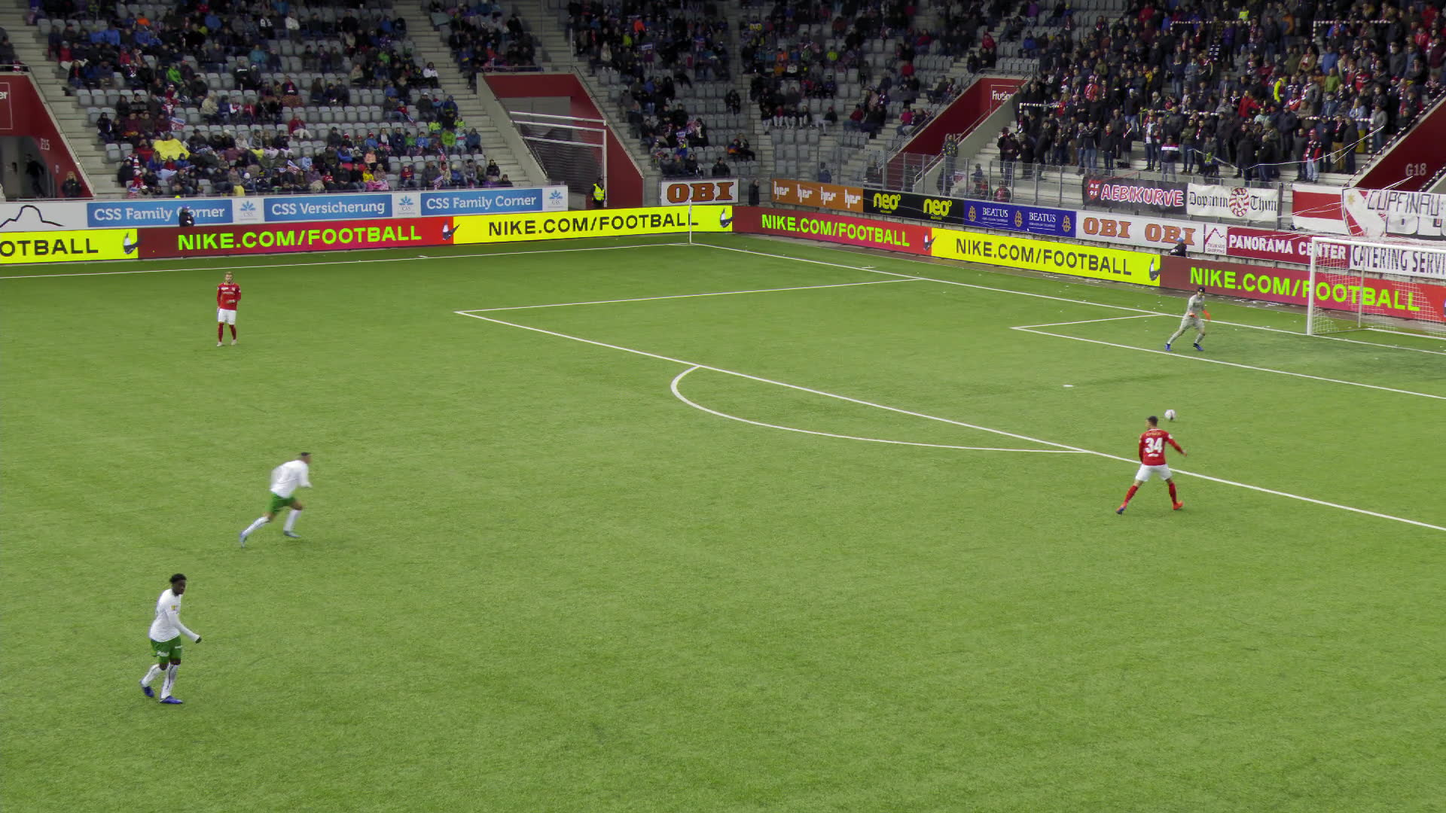ball: (1163, 404, 1174, 416)
player: (133, 571, 200, 706), (230, 450, 305, 547), (1116, 416, 1183, 515), (1164, 285, 1213, 352), (212, 269, 242, 346)
